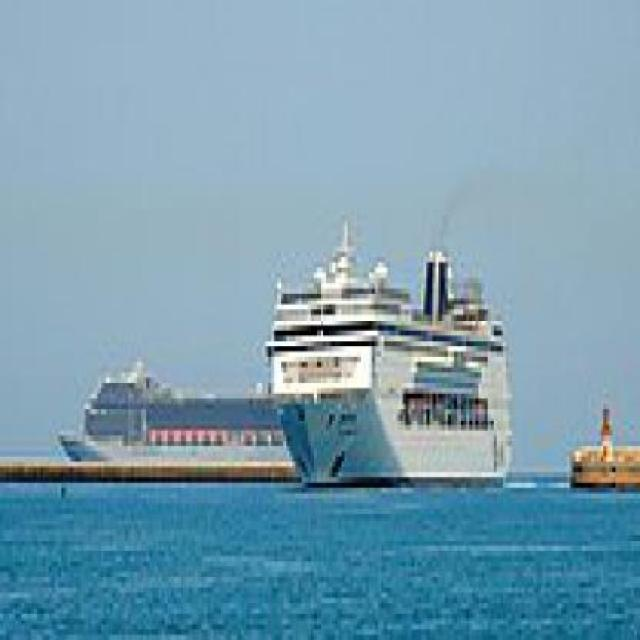cruise: (256, 227, 529, 500), (53, 353, 300, 490)
